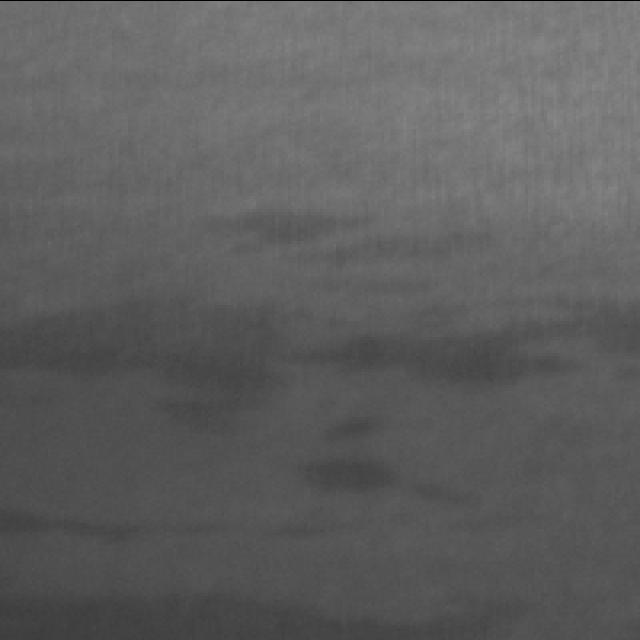inclusion: (0, 290, 640, 421), (0, 493, 262, 557), (194, 198, 379, 270), (296, 443, 402, 519)
